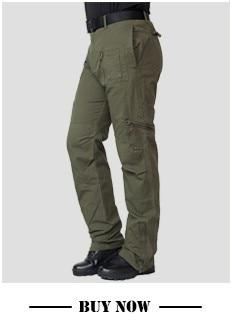pants: (66, 20, 160, 274)
